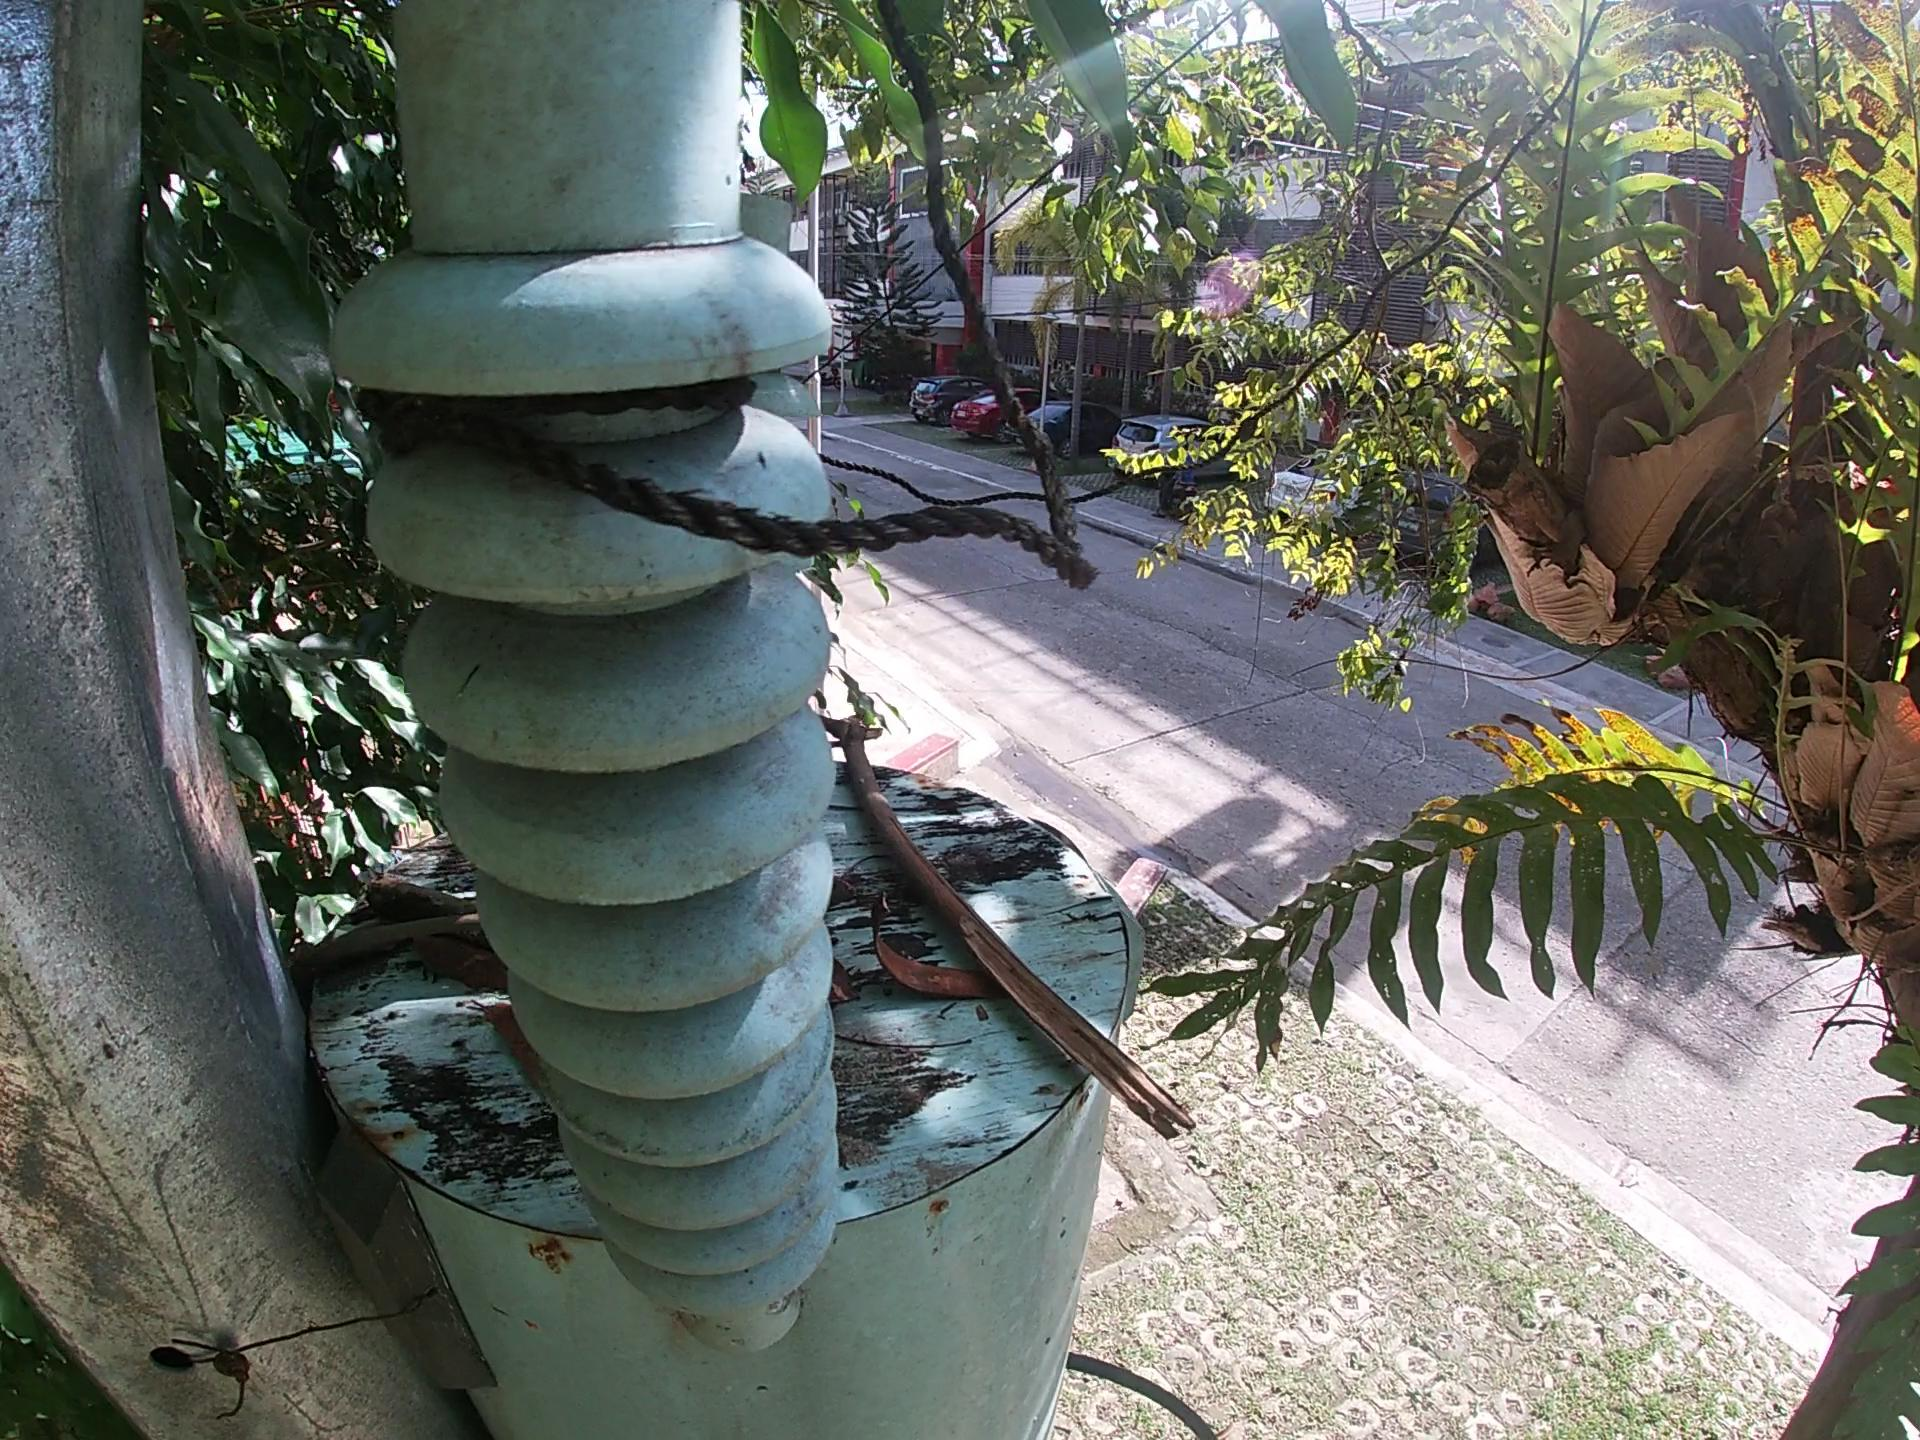leaf: (402, 933, 516, 986)
mahogany fruit: (862, 895, 1008, 1004)
tree branch: (819, 711, 1197, 1147), (287, 911, 494, 985), (358, 880, 479, 926)
